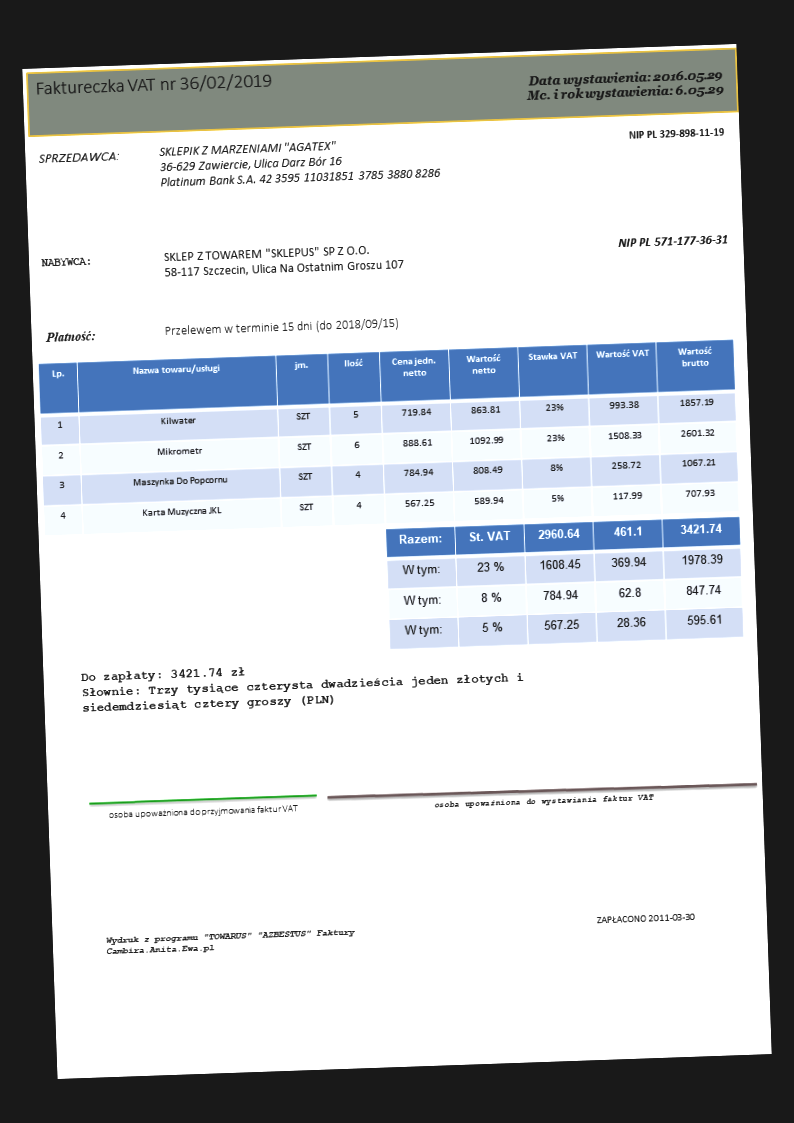Table: (36, 339, 739, 538), (385, 516, 744, 651)
TextBox: (77, 654, 529, 717), (155, 133, 443, 195), (160, 241, 406, 281), (522, 64, 727, 107), (102, 926, 360, 959), (32, 68, 274, 99), (162, 316, 401, 340), (431, 791, 656, 811), (105, 802, 300, 822), (615, 232, 729, 251), (625, 123, 725, 144), (594, 909, 698, 927), (34, 147, 121, 168), (38, 253, 92, 271), (43, 328, 97, 345)
